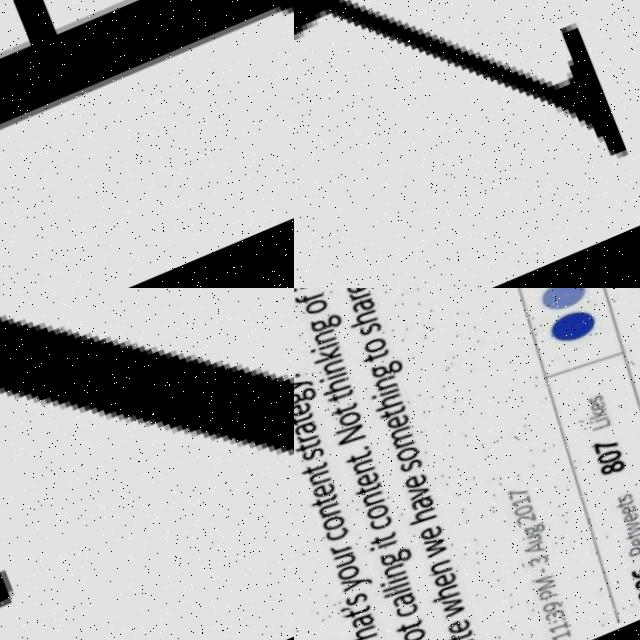3: (595, 432, 625, 455), (510, 482, 534, 501)
4: (599, 452, 633, 480)
5: (545, 594, 572, 615)
X: (294, 0, 640, 288)
Z: (0, 288, 294, 640)
